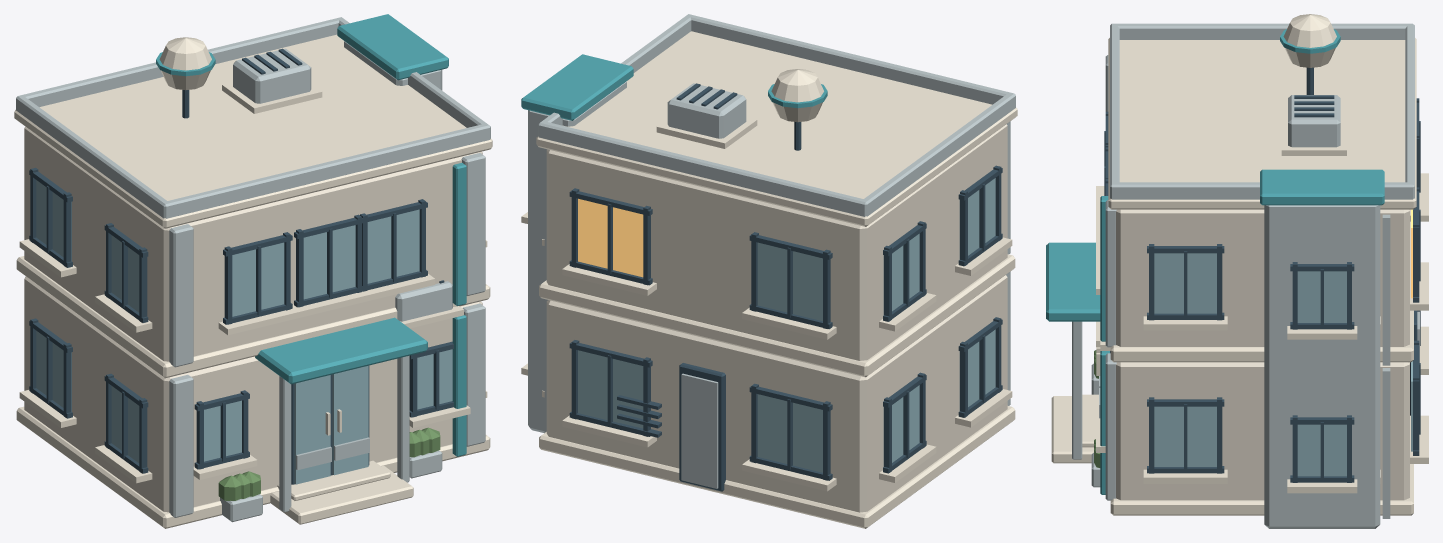
Rendered from development-l02.glb.
3 views of the same model, side by side, from view 1: azimuth 30°, elevation 25°; view 2: azimuth 150°, elevation 25°; view 3: azimuth 270°, elevation 25° (orthographic).
Parts seen in each view (by area): view 1: development_L02; view 2: development_L02; view 3: development_L02.
Part boxes in pixels (x1,y1,x2,y2): development_L02: (14, 14, 492, 528); development_L02: (521, 14, 1017, 528); development_L02: (1046, 14, 1428, 528).
Bounding box in the file's own units: 5.64 × 5.51 × 4.8.
